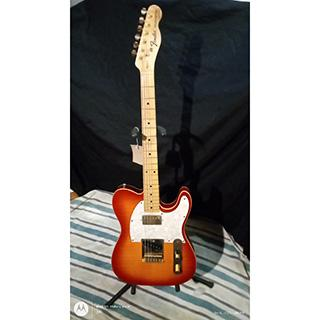Fender Telecaster: (109, 4, 198, 288)
SH: (141, 212, 166, 255)
